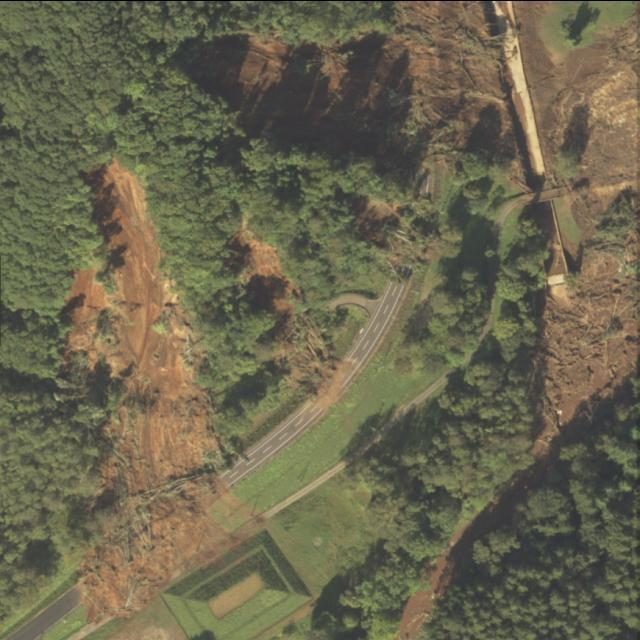landslide: (171, 0, 521, 167), (66, 160, 218, 495), (79, 475, 236, 621), (1, 139, 90, 311), (392, 523, 469, 639), (1, 81, 118, 138)
